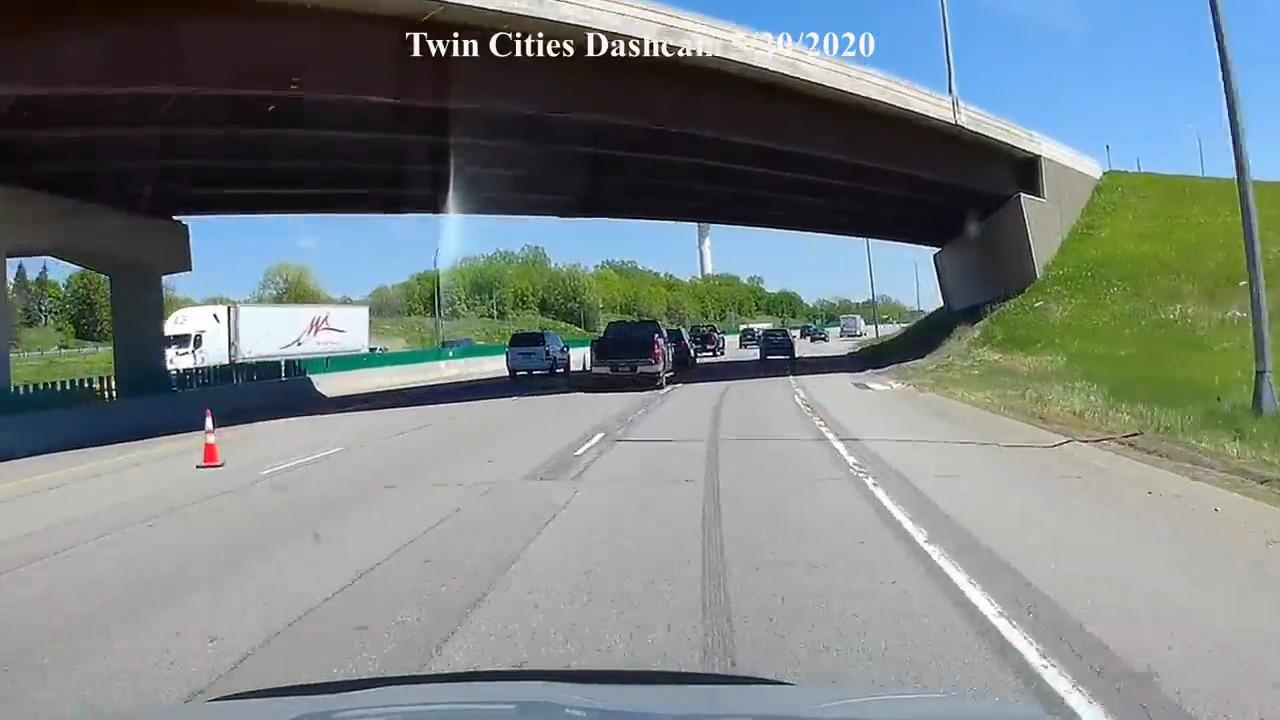car: (504, 330, 571, 379), (759, 329, 796, 360)
traffic cone: (195, 408, 226, 469)
